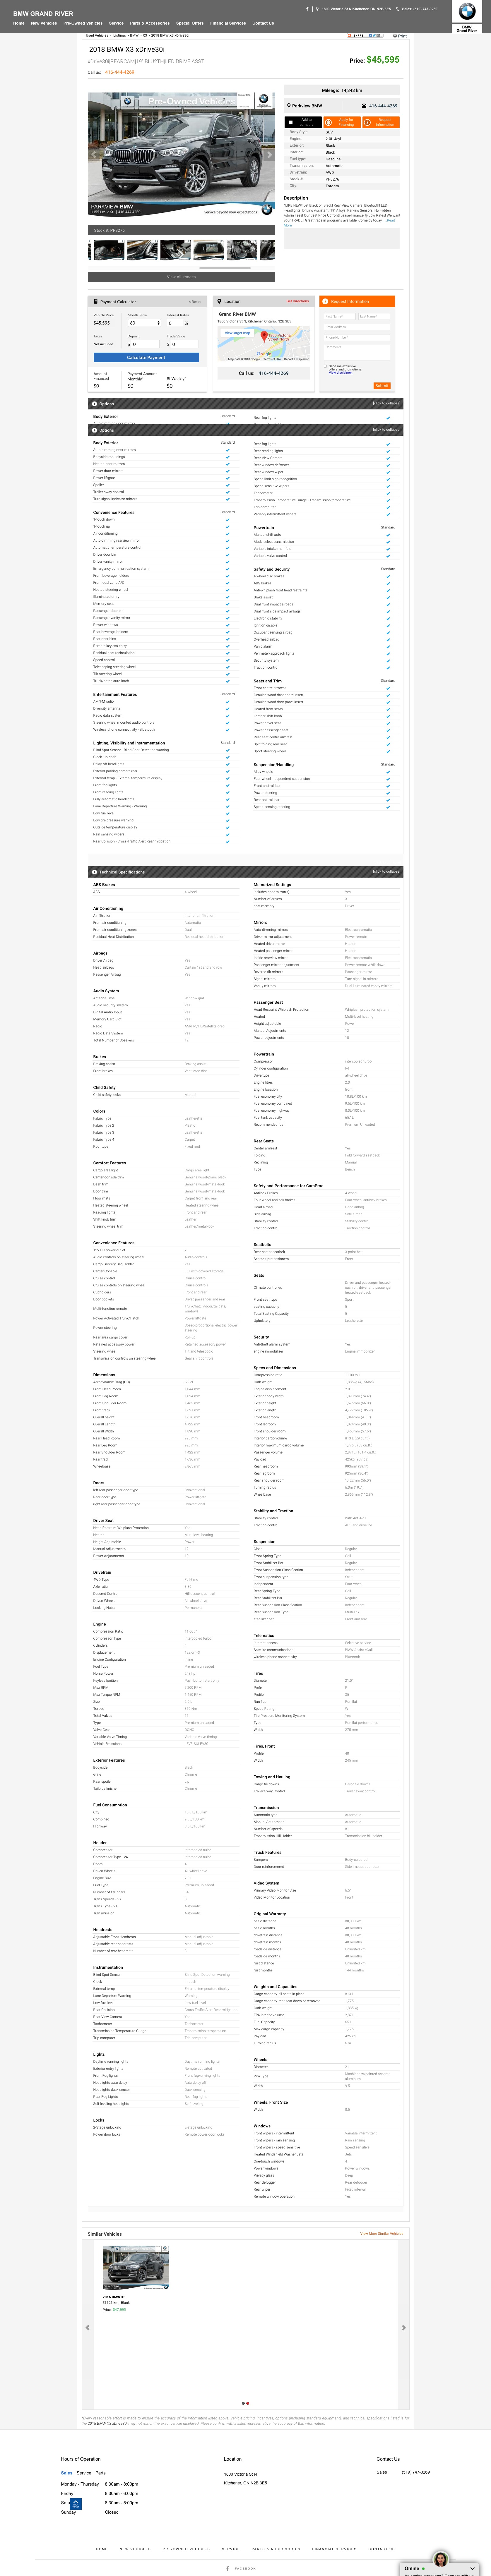car: (263, 148, 276, 161)
